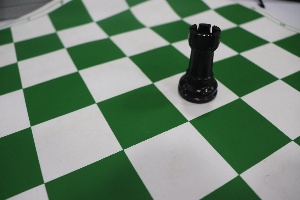black_rook: (177, 9, 223, 109)
